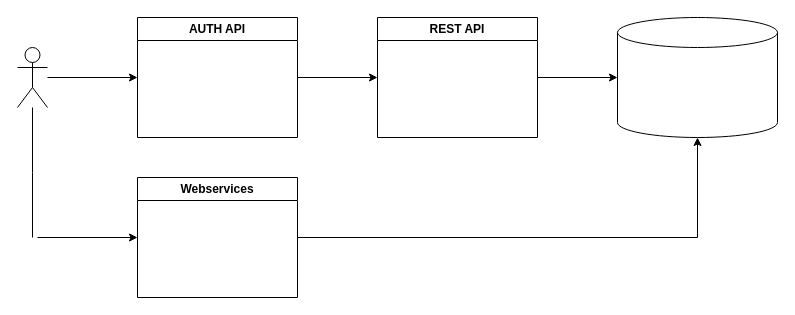
Some shapes in this 795 by 315 pixel diagram are drawn without their labels. Each missing label, with the centre of its shape:
PostgresSQL: the point at 697,77
User: the point at 32,77
